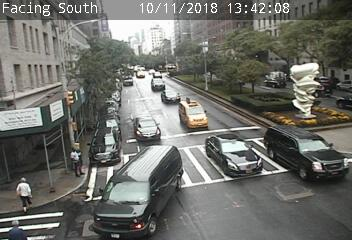car: (96, 145, 183, 236), (266, 125, 349, 184), (206, 135, 263, 176), (89, 128, 120, 165), (133, 115, 161, 141), (179, 101, 207, 127), (161, 89, 180, 104), (264, 77, 285, 89), (151, 78, 165, 90)
